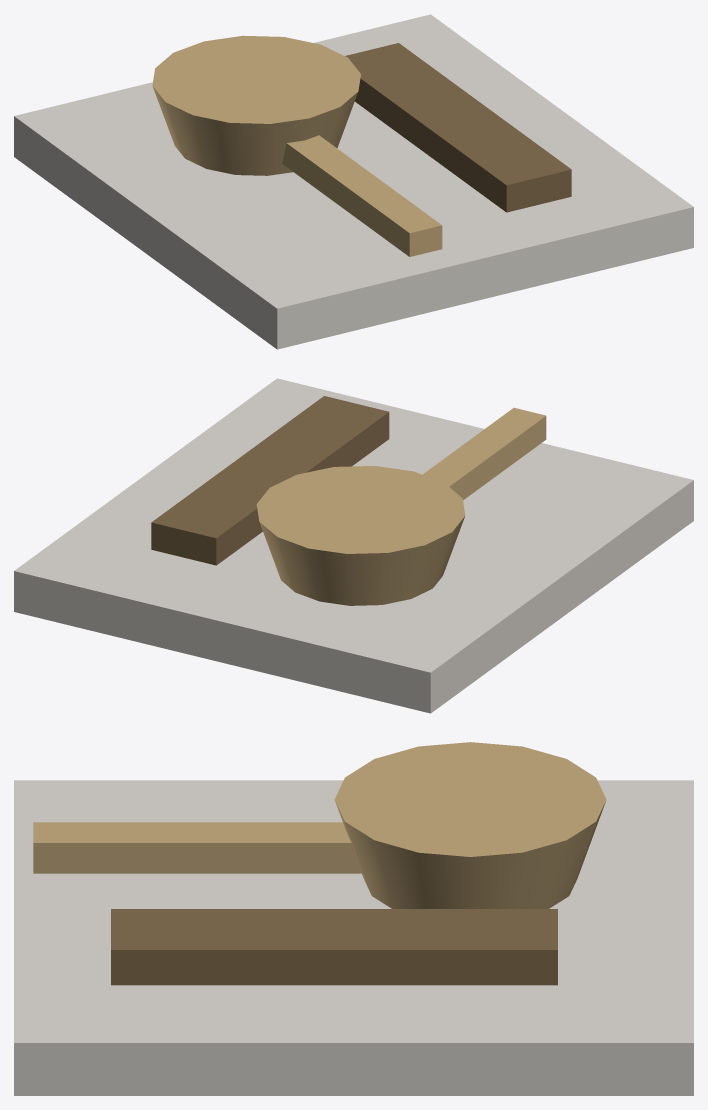
The model's file is SV_MP_SKU_09_v01_lod1.glb.
3 renders of one model, top to bottom at view 1: azimuth 30°, elevation 25°; view 2: azimuth 150°, elevation 25°; view 3: azimuth 270°, elevation 25°, orthographic. The views are drawn at different scales.
Visible parts, largest first — view 1: mproto_SV_MP_SKU_09_v01; view 2: mproto_SV_MP_SKU_09_v01; view 3: mproto_SV_MP_SKU_09_v01.
Boxes of the visible parts, x1,y1,x2,y2 form: mproto_SV_MP_SKU_09_v01: (14,14,693,349); mproto_SV_MP_SKU_09_v01: (14,378,693,713); mproto_SV_MP_SKU_09_v01: (14,742,693,1095).
Size of the model in its own units: 0.064 by 0.015 by 0.07.
